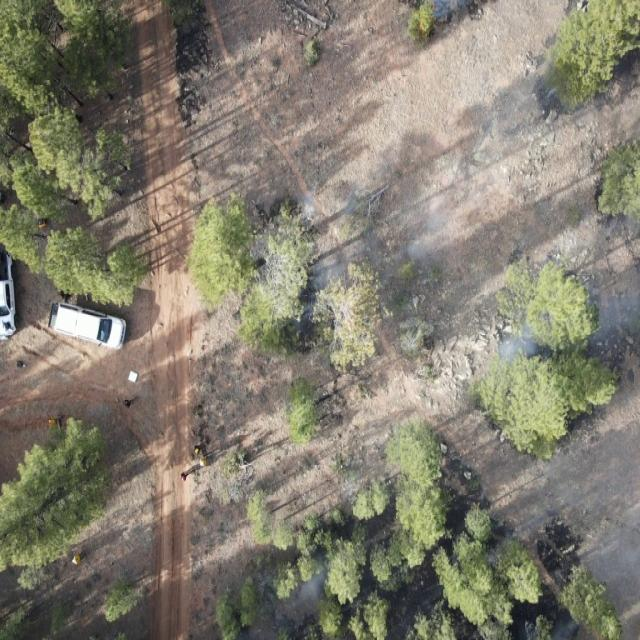fire: (414, 0, 441, 41)
smoke: (247, 184, 457, 360), (493, 280, 640, 370), (536, 521, 640, 640), (253, 547, 351, 640), (501, 69, 588, 140), (599, 212, 640, 249), (429, 0, 484, 25)
